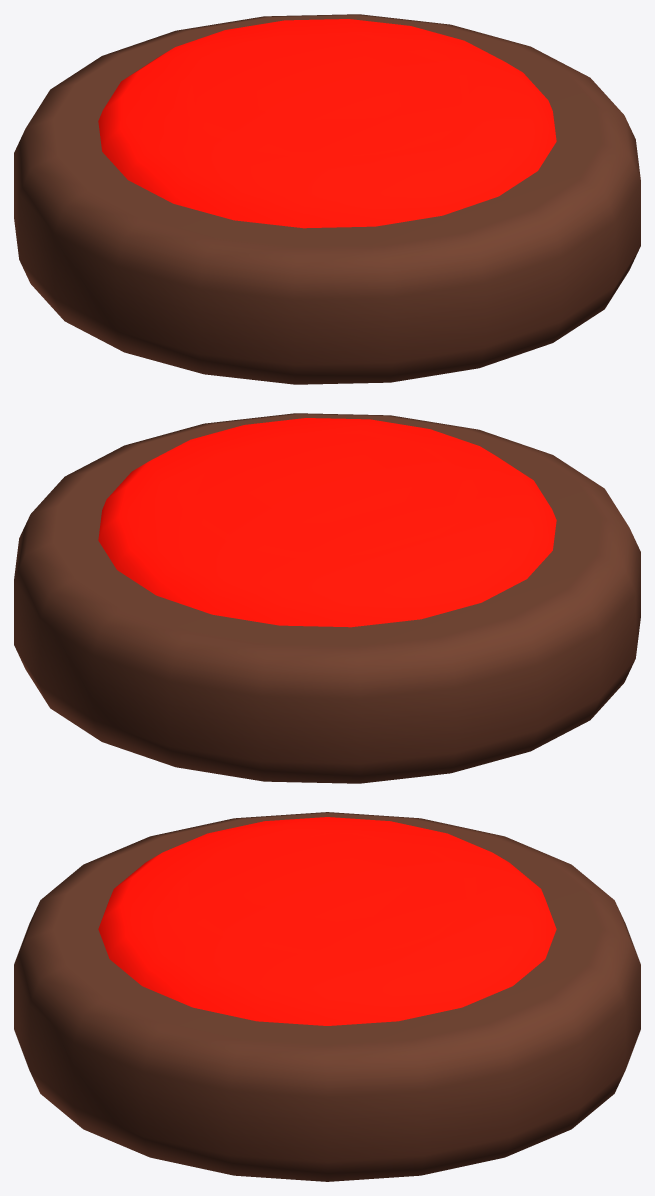
The model's file is Trampoline_1_01.glb.
3 renders of one model, top to bottom at view 1: azimuth 30°, elevation 25°; view 2: azimuth 150°, elevation 25°; view 3: azimuth 270°, elevation 25°, orthographic.
Parts seen in each view (by area): view 1: Trampoline_1_01, Trampoline_1_02; view 2: Trampoline_1_01, Trampoline_1_02; view 3: Trampoline_1_01, Trampoline_1_02.
Boxes of the visible parts, x1,y1,x2,y2 form: Trampoline_1_01: (14,14,640,384); Trampoline_1_02: (98,19,556,228); Trampoline_1_01: (14,413,640,783); Trampoline_1_02: (98,418,556,627); Trampoline_1_01: (14,812,640,1181); Trampoline_1_02: (98,817,556,1025).
Size of the model in its own units: 2.37 by 0.7549 by 2.37.
Materials: 2 (2 with a texture image).
